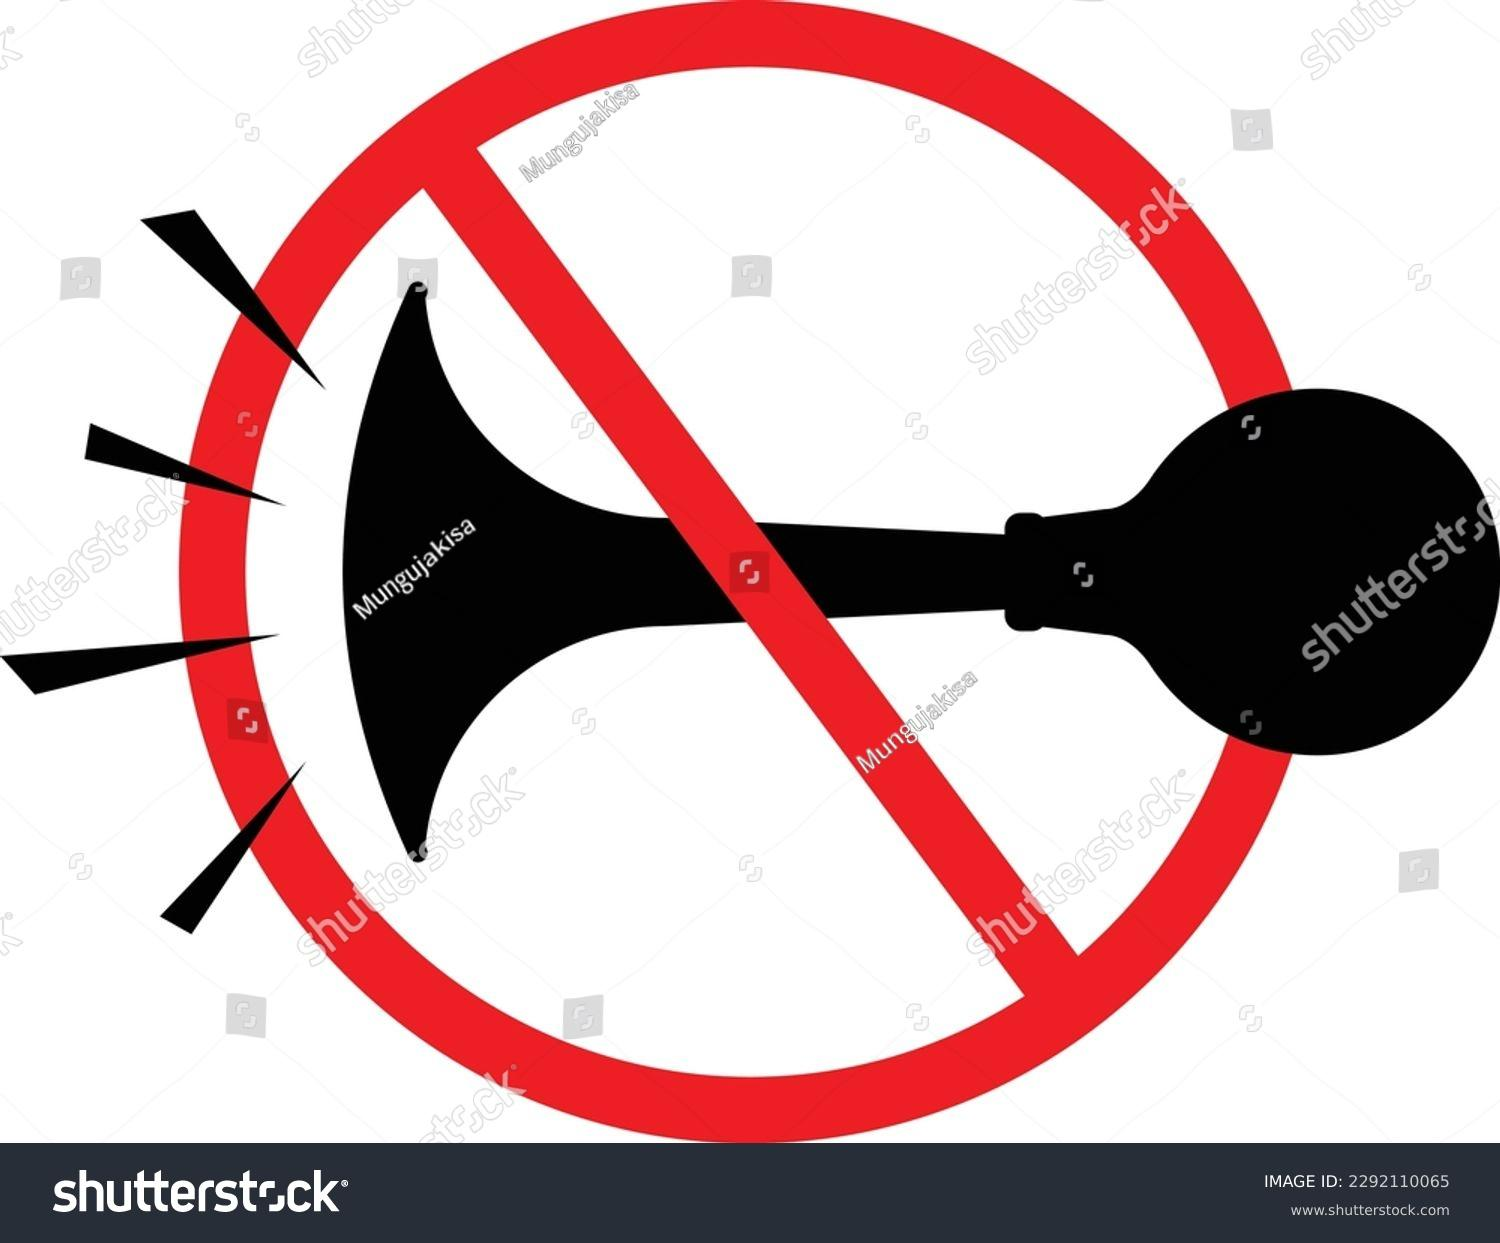Horn Prohibited: (64, 78, 1449, 1113)
